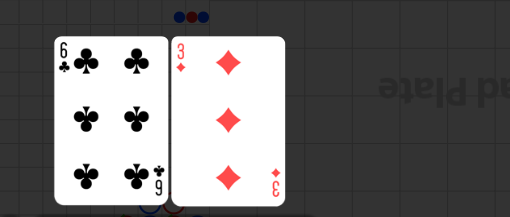3D: (175, 42, 187, 74)
6C: (151, 163, 165, 197)
